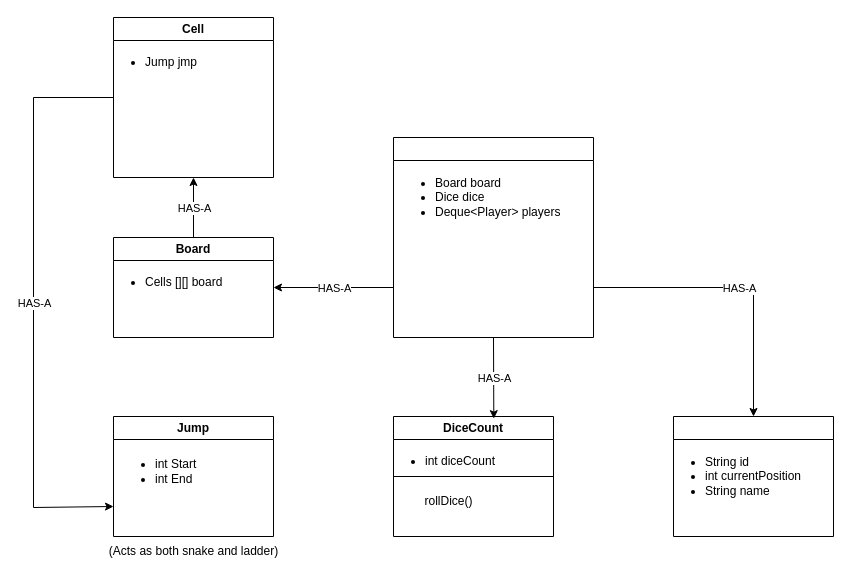
Some shapes in this 851 by 584 pixel diagram are drawn without their labels. Each missing label, with the box of its shape:
Game: (392, 136, 594, 338)
Player: (672, 416, 834, 536)
